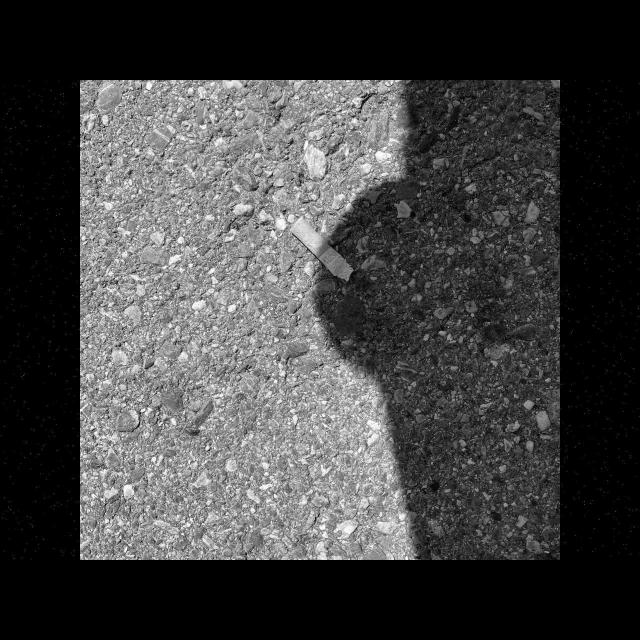cigarette: (288, 216, 356, 282)
